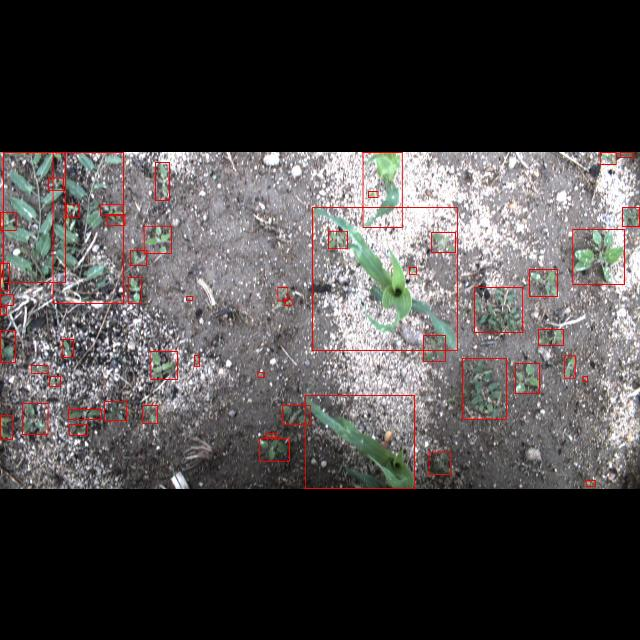crop: (312, 206, 458, 350), (362, 152, 402, 226)
weed: (53, 152, 124, 302), (305, 394, 415, 488), (3, 151, 65, 281), (573, 228, 625, 284), (462, 358, 506, 418), (473, 286, 522, 332), (22, 402, 48, 433), (150, 351, 178, 379), (529, 268, 557, 296), (144, 225, 172, 252), (516, 363, 540, 393), (259, 439, 289, 461), (423, 335, 445, 361), (282, 404, 310, 424), (155, 161, 169, 199), (1, 330, 16, 362), (431, 232, 455, 252), (428, 452, 449, 474), (105, 402, 127, 421), (538, 329, 564, 345), (128, 277, 142, 303), (622, 206, 640, 226), (328, 230, 348, 248), (68, 409, 102, 419), (0, 415, 12, 439), (142, 405, 158, 423), (0, 211, 16, 229), (0, 262, 10, 290), (100, 203, 124, 214), (130, 250, 146, 264), (564, 355, 574, 377), (69, 424, 87, 436), (62, 339, 74, 357), (48, 177, 64, 190), (107, 213, 125, 224), (600, 151, 616, 163), (30, 364, 48, 374), (66, 204, 80, 216), (0, 294, 14, 304), (278, 286, 288, 300), (50, 376, 60, 386), (194, 354, 200, 366), (409, 266, 417, 274), (586, 480, 596, 486), (368, 191, 378, 197), (620, 152, 634, 156), (0, 307, 6, 315), (265, 433, 277, 437), (284, 298, 292, 304), (185, 296, 192, 300), (582, 376, 588, 380), (258, 372, 264, 376)
